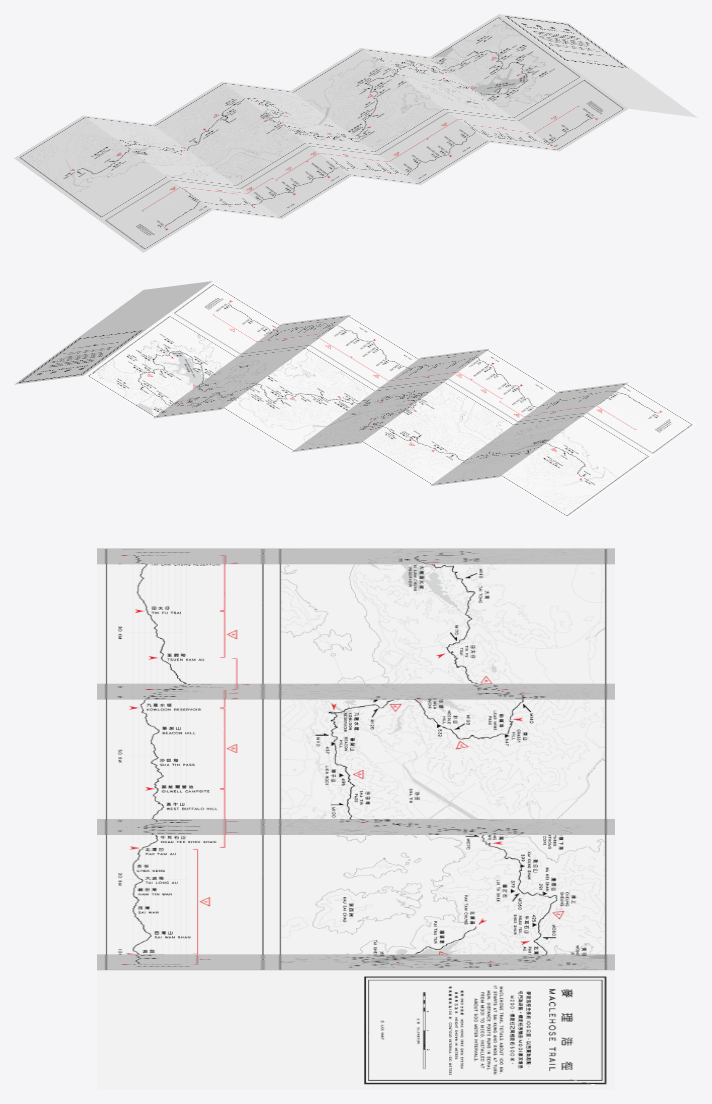
Rendered from maclehose.gltf.
3 renders of one model, top to bottom at view 1: azimuth 30°, elevation 25°; view 2: azimuth 150°, elevation 25°; view 3: azimuth 270°, elevation 25°, orthographic. The views are drawn at different scales.
Visible parts, largest first — view 1: 7, 1, 5, 3, 8, 2, 4, 6; view 2: 7, 1, 5, 3, 8, 2, 4, 6; view 3: 2, 4, 6, 8, 1, 3, 7, 5.
Part boxes in pixels (bbox=[...]): 7: bbox=[430, 14, 628, 151]; 1: bbox=[14, 115, 212, 252]; 5: bbox=[291, 48, 489, 185]; 3: bbox=[153, 82, 350, 218]; 8: bbox=[499, 14, 697, 117]; 2: bbox=[84, 115, 281, 218]; 4: bbox=[222, 81, 419, 185]; 6: bbox=[361, 48, 558, 151]; 7: bbox=[83, 281, 281, 418]; 1: bbox=[499, 382, 697, 519]; 5: bbox=[222, 315, 420, 452]; 3: bbox=[361, 349, 558, 485]; 8: bbox=[14, 281, 212, 384]; 2: bbox=[430, 382, 627, 485]; 4: bbox=[292, 348, 489, 452]; 6: bbox=[153, 315, 350, 418]; 2: bbox=[97, 564, 614, 683]; 4: bbox=[97, 699, 614, 818]; 6: bbox=[97, 835, 614, 954]; 8: bbox=[97, 970, 614, 1089]; 1: bbox=[97, 548, 614, 564]; 3: bbox=[97, 683, 614, 699]; 7: bbox=[97, 954, 614, 970]; 5: bbox=[97, 819, 614, 834].
Bounding box in the file's own units: 4.08 × 0.1816 × 1.65.
Materials: 8 (8 with a texture image).
